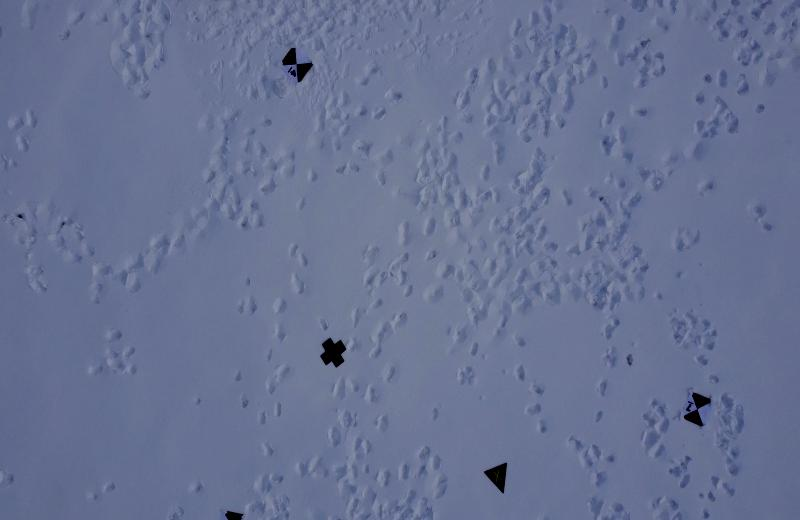Cross: (317, 336, 349, 371)
Triangle: (482, 458, 509, 497)
